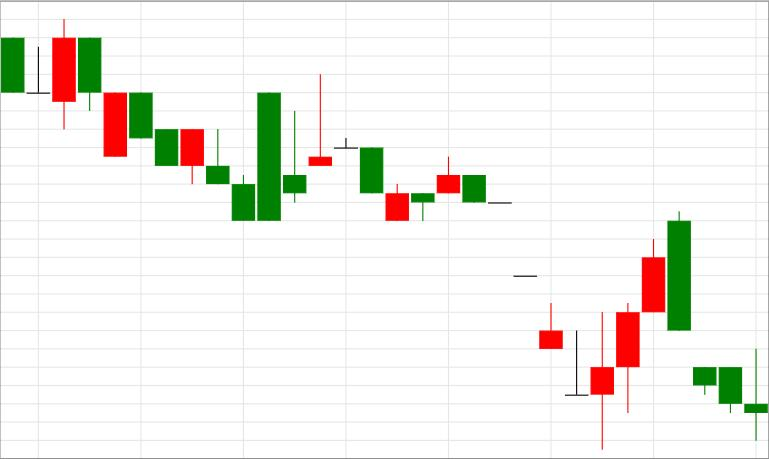bearish_engulfing_fall: (566, 211, 691, 450)
